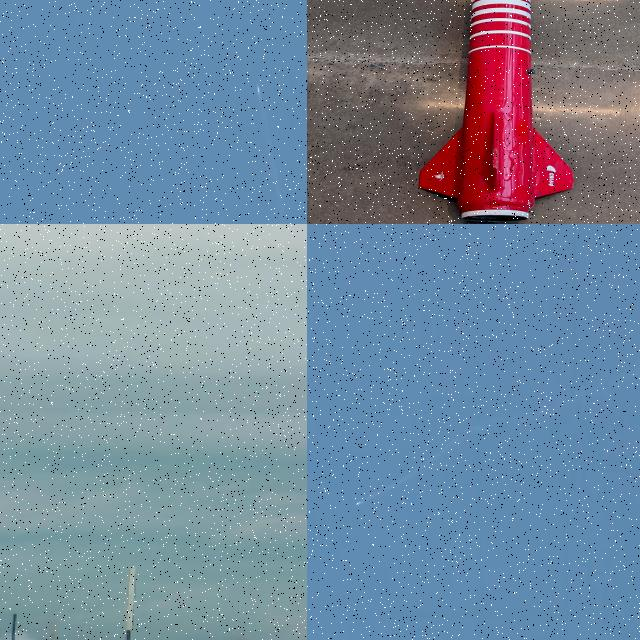Rocket: (418, 0, 574, 223), (256, 83, 262, 98), (356, 503, 360, 506)
